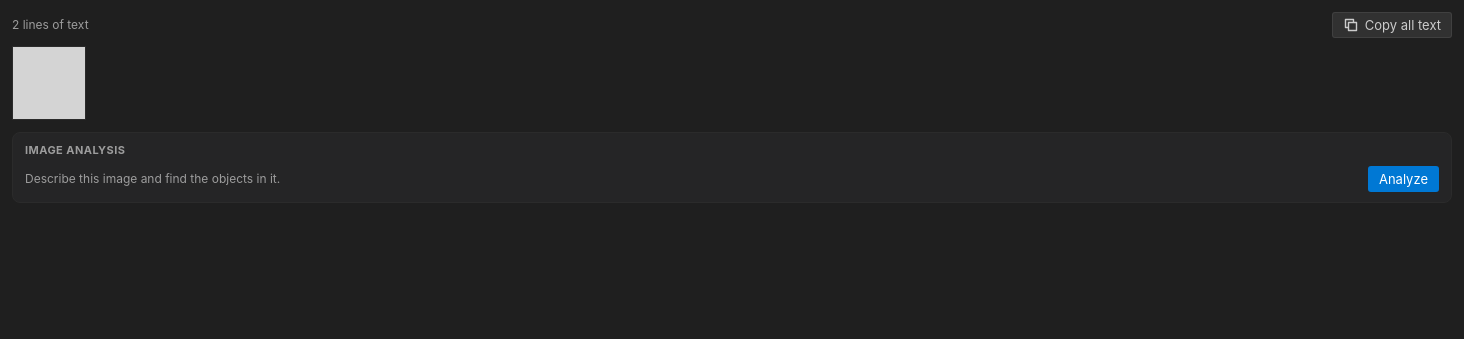
Test: ScreenshotPreview › analyzes on request and shows progress until the details change
Later steps or results of the test are not shown.
What coordinates should you click on to do the following:
click the button "Analyze"
I would click on:
 (1404, 179)
Its box is [1368,166,1439,192].
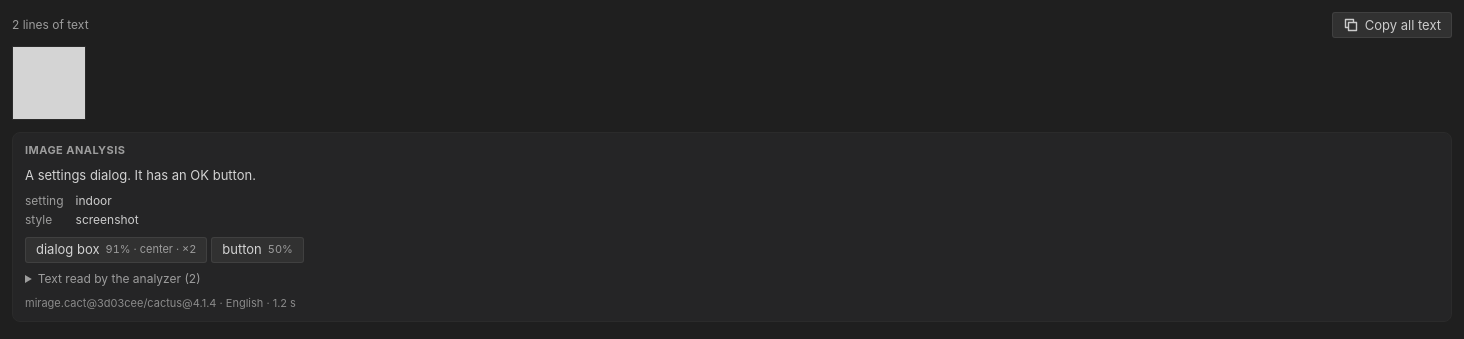
Result: the list named "Objects" is shown at [25,237,304,263]
